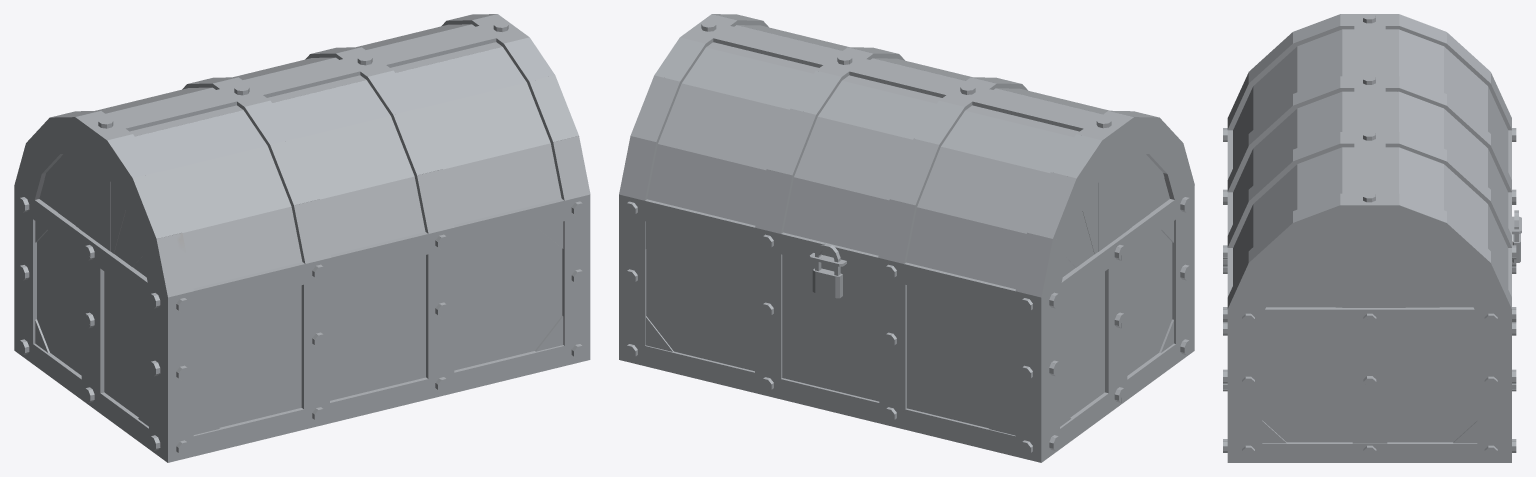
The model's file is chest.obj.
The picture shows the model from 3 angles, left to right: view 1: azimuth 30°, elevation 25°; view 2: azimuth 150°, elevation 25°; view 3: azimuth 270°, elevation 25°; orthographic projection. The views are drawn at different scales.
Visible parts, largest first — view 1: cube.006; view 2: cube.006; view 3: cube.006.
Part boxes in pixels (bbox=[...]): cube.006: bbox=[14, 14, 590, 462]; cube.006: bbox=[619, 14, 1194, 462]; cube.006: bbox=[1223, 14, 1521, 462].
Bounding box in the file's own units: 7.37 × 4.61 × 4.77.
1 material, 1 textured.
